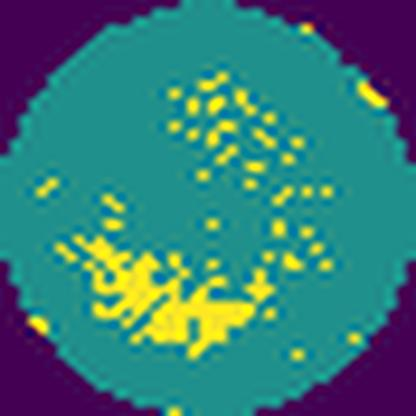Loc: (71, 229, 277, 362)
